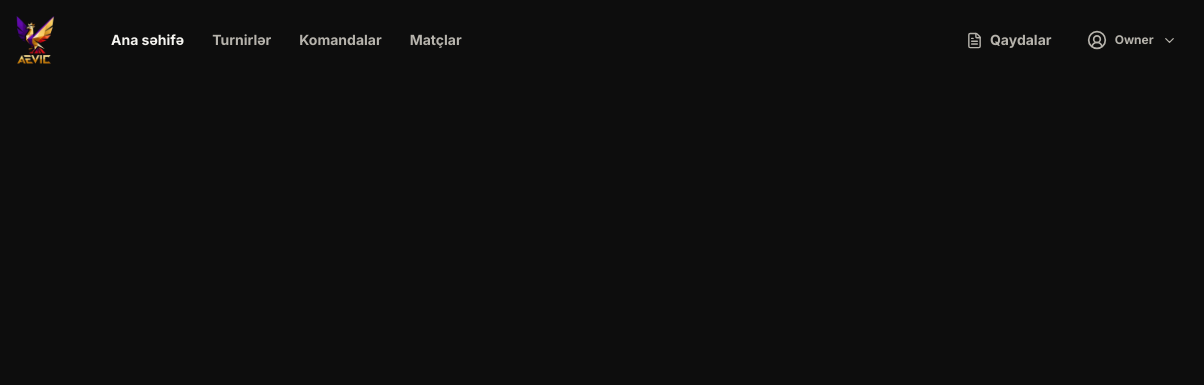
Test case: production account recovery › keeps a failed logout visible and offers a retry without an unhandled rejection
What coordinates should you click on to do the following:
click the button with aria-label "Owner hesab menyusu"
I would click on:
 (1132, 40)
Its box is [1076,18,1187,62].
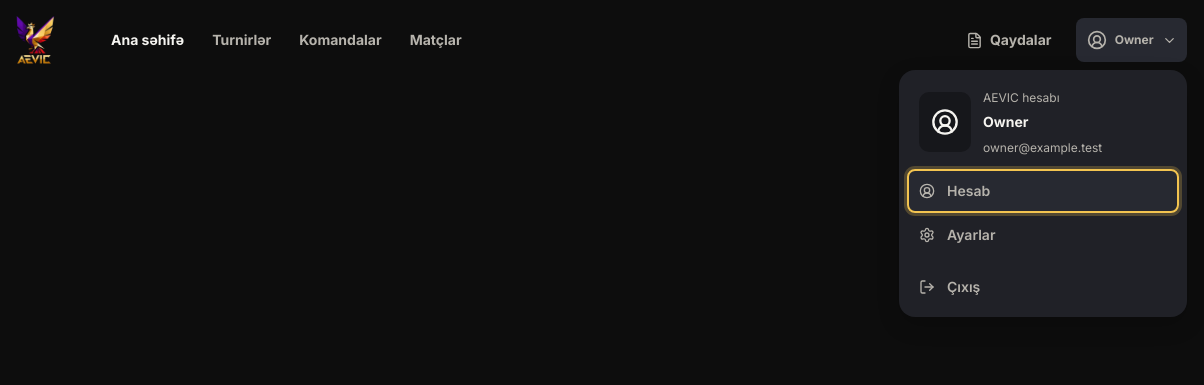
What coordinates should you click on to do the following:
click the menu item "Çıxış"
I would click on:
 (964, 286)
Its box is [907,265,1179,309].
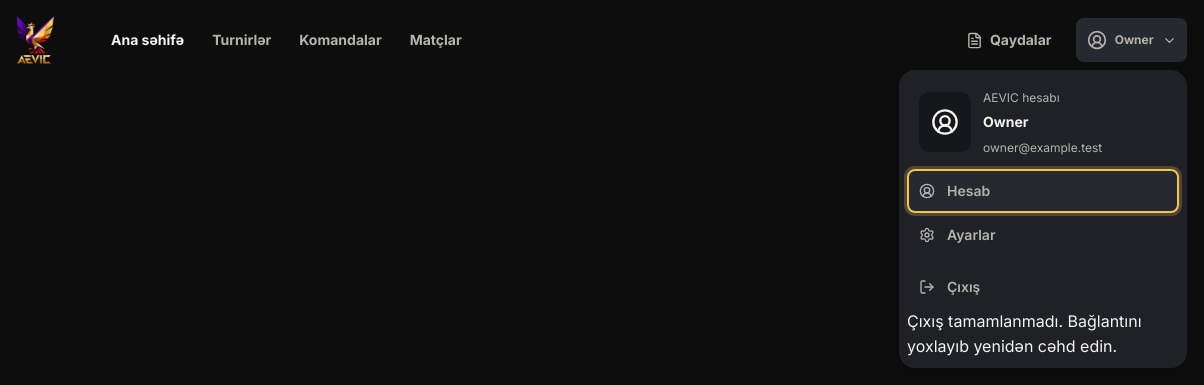
Expected: the menu item "Çıxış" is enabled, [907,265,1179,309]
Expected: the message shows "Çıxış tamamlanmadı", [907,311,1142,356]
